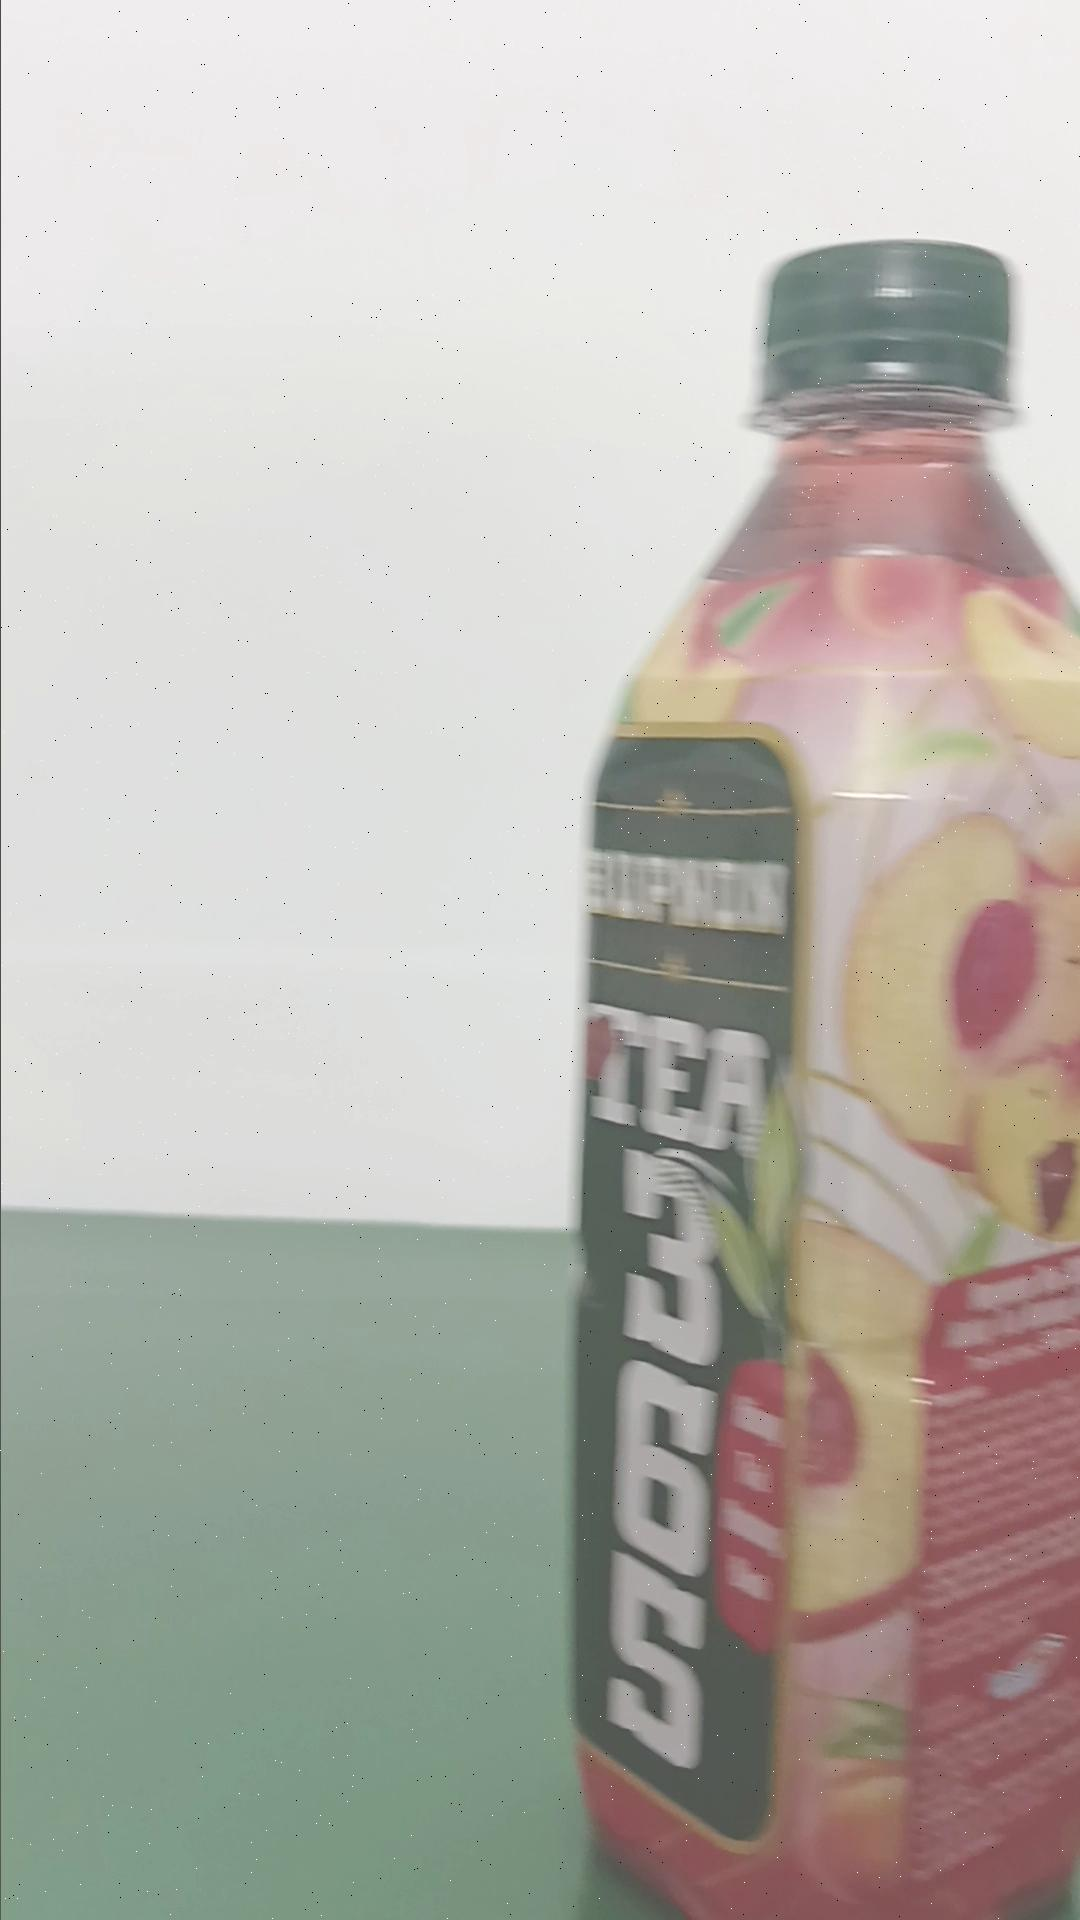loi rach va lap chai: (572, 239, 1073, 1909)
